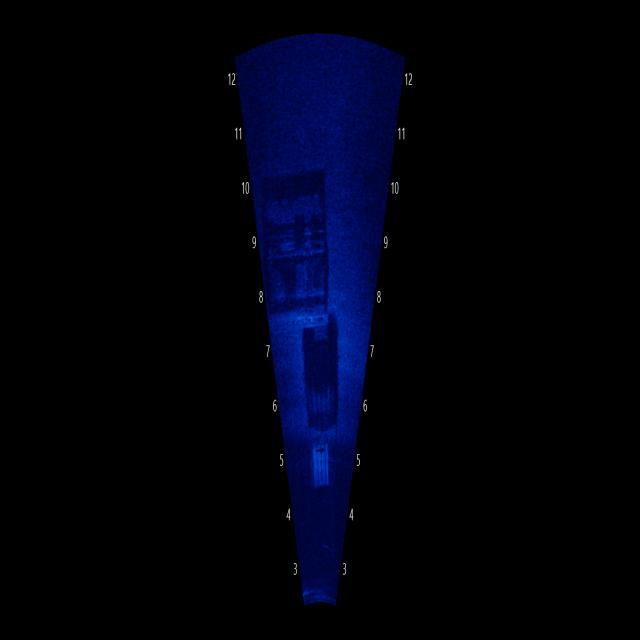square: (266, 160, 336, 320), (305, 415, 342, 536)
